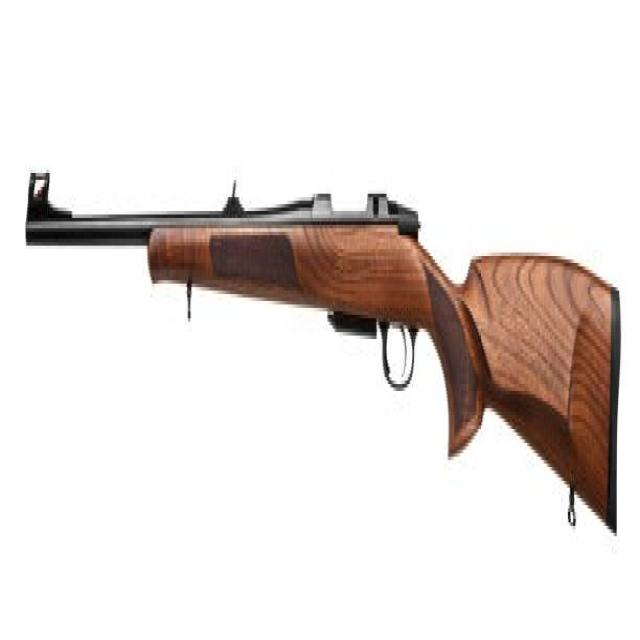rifle: (20, 149, 630, 551)
